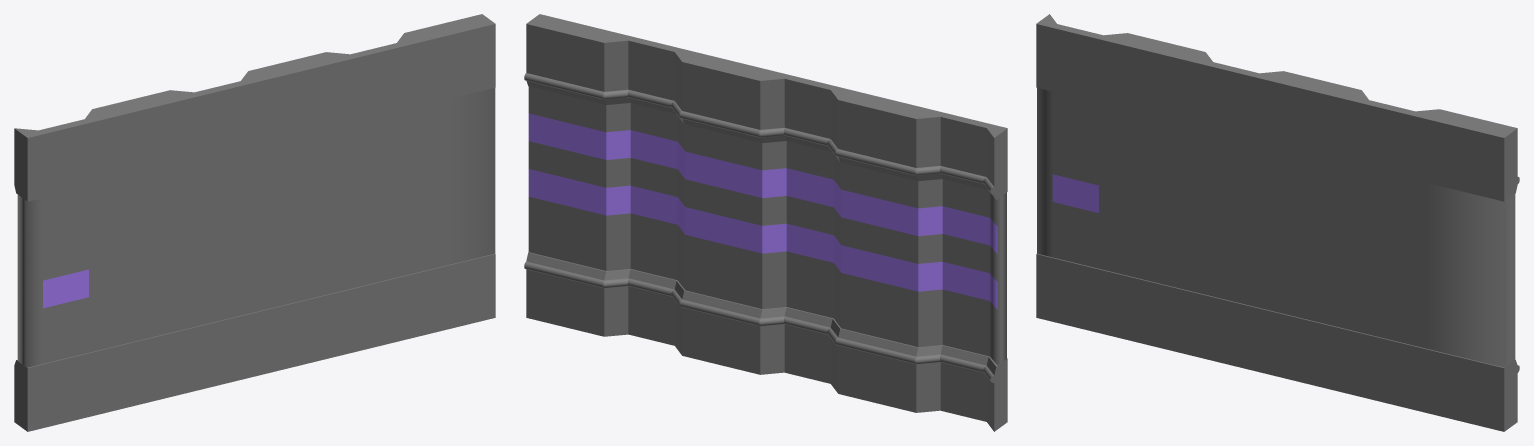
File: Inside_Wall_1.fbx
The picture shows the model from 3 angles, left to right: view 1: azimuth 30°, elevation 25°; view 2: azimuth 150°, elevation 25°; view 3: azimuth 330°, elevation 25°; orthographic projection.
Visible parts, largest first — view 1: Box012; view 2: Box012; view 3: Box012.
Boxes of the visible parts, x1,y1,x2,y2 form: Box012: (14,14,495,431); Box012: (524,14,1007,431); Box012: (1036,14,1519,431).
Bounding box in the file's own units: 394 × 236 × 22.64.
